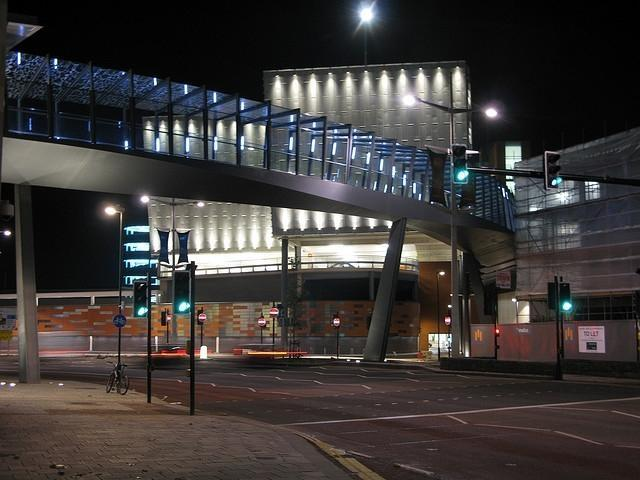bicycle: (105, 360, 130, 396)
